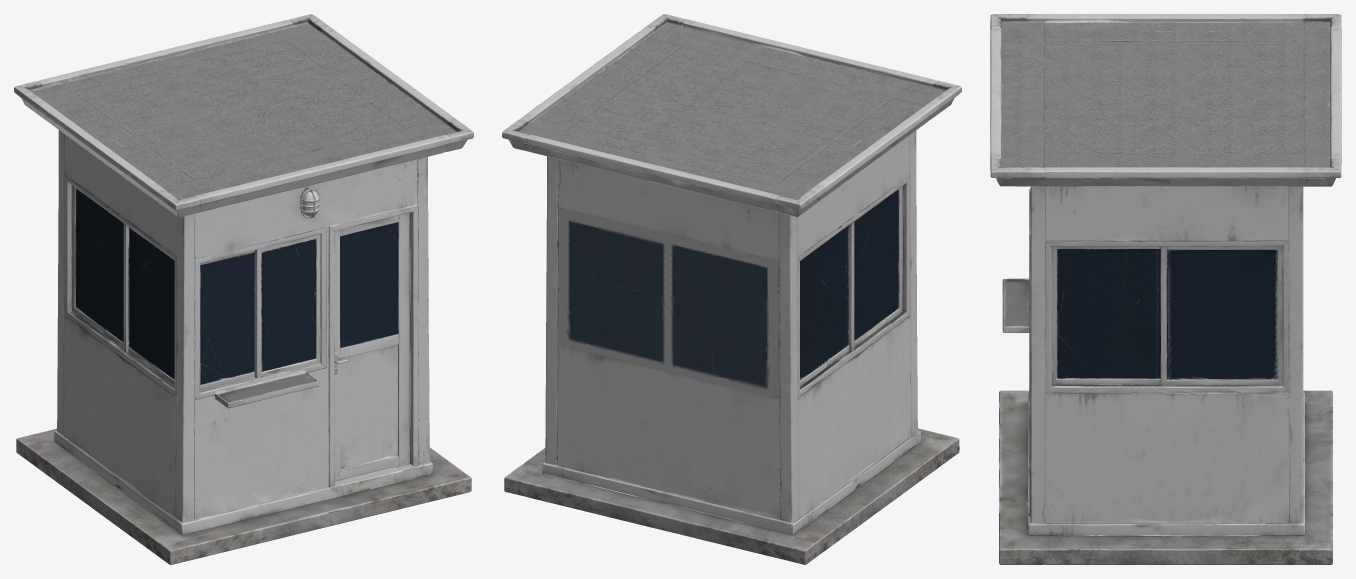
File: guerite.glb
3 renders of one model, left to right at view 1: azimuth 30°, elevation 25°; view 2: azimuth 150°, elevation 25°; view 3: azimuth 270°, elevation 25°, orthographic. The views are drawn at different scales.
Bounding box in the file's own units: 1.65 × 1.9 × 1.54.
Materials: 1 (1 with a texture image).
